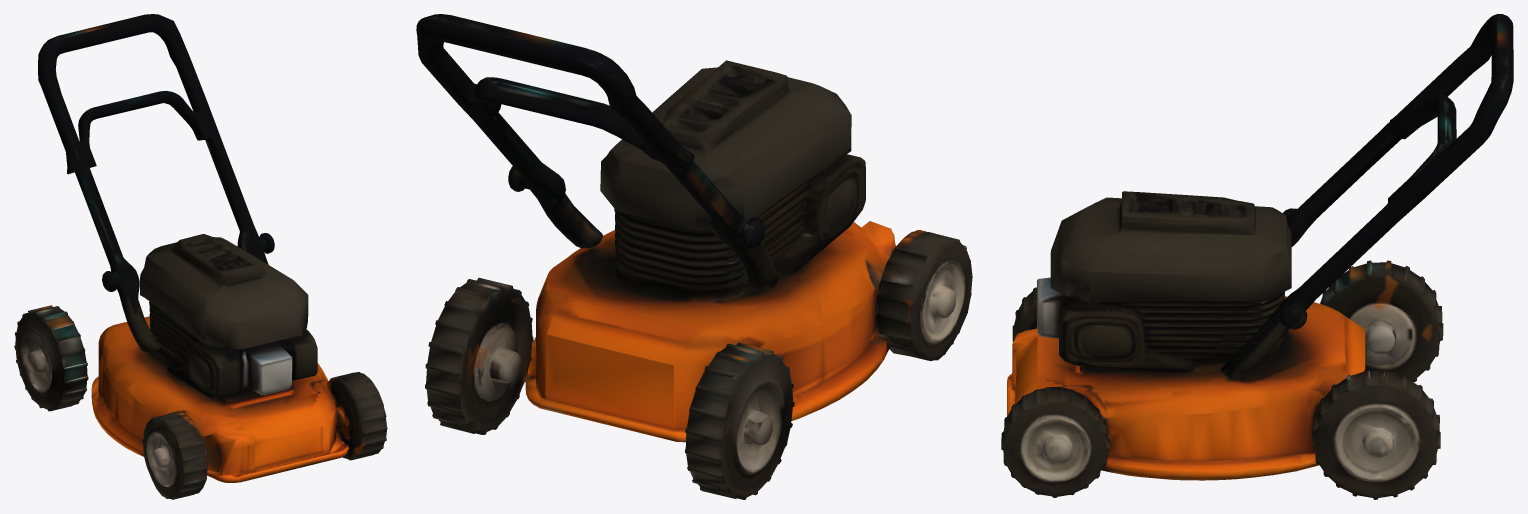
File: lawn mower.fbx
The picture shows the model from 3 angles, left to right: view 1: azimuth 30°, elevation 25°; view 2: azimuth 150°, elevation 25°; view 3: azimuth 270°, elevation 25°; orthographic projection. The views are drawn at different scales.
Visible parts, largest first — view 1: node_0; view 2: node_0; view 3: node_0.
Boxes of the visible parts, x1=… form: node_0: x1=14, y1=14, x2=387, y2=499; node_0: x1=416, y1=14, x2=972, y2=499; node_0: x1=1001, y1=14, x2=1513, y2=499.
Size of the model in its own units: 0.2455 by 0.3523 by 0.4069.
Materials: 1 (1 with a texture image).
